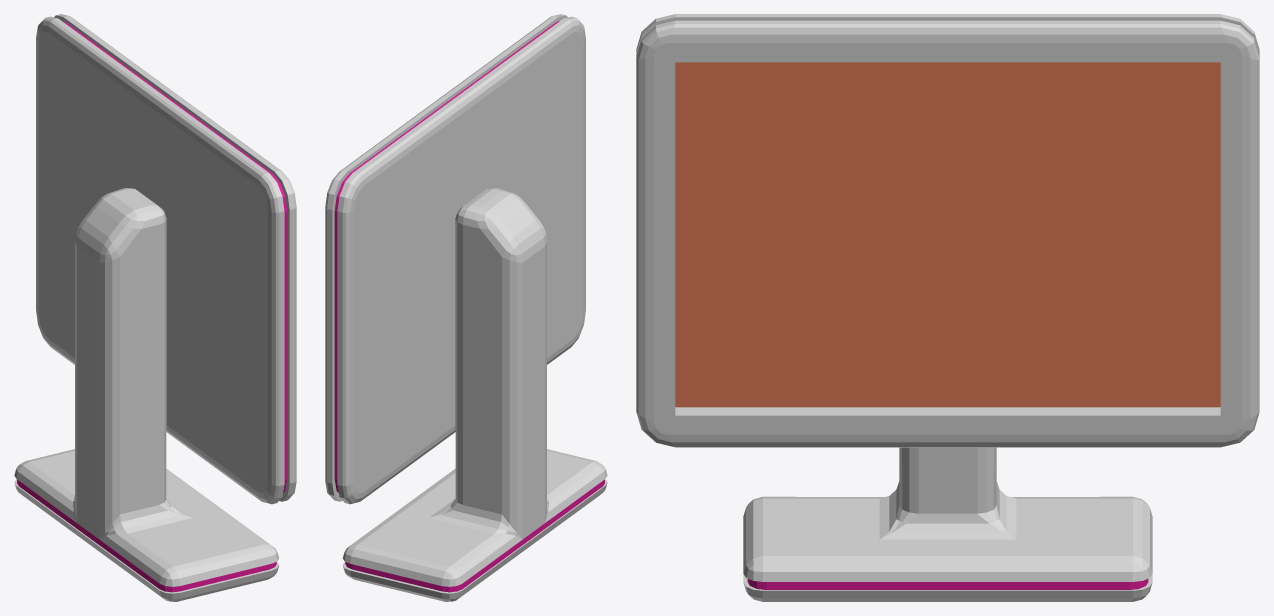
Rendered from ReviewPanel.fbx.
The picture shows the model from 3 angles, left to right: view 1: azimuth 30°, elevation 25°; view 2: azimuth 150°, elevation 25°; view 3: azimuth 270°, elevation 25°; orthographic projection. The views are drawn at different scales.
Parts seen in each view (by area): view 1: ReviewPanel, Base; view 2: ReviewPanel, Base; view 3: ReviewPanel, Base.
Boxes of the visible parts, left/top/right/bottom form: ReviewPanel: left=36, top=14, right=296, bottom=504; Base: left=14, top=188, right=279, bottom=601; ReviewPanel: left=325, top=14, right=585, bottom=504; Base: left=342, top=188, right=607, bottom=601; ReviewPanel: left=636, top=14, right=1259, bottom=447; Base: left=743, top=447, right=1152, bottom=601.
Size of the model in its own units: 45 by 160 by 160.
